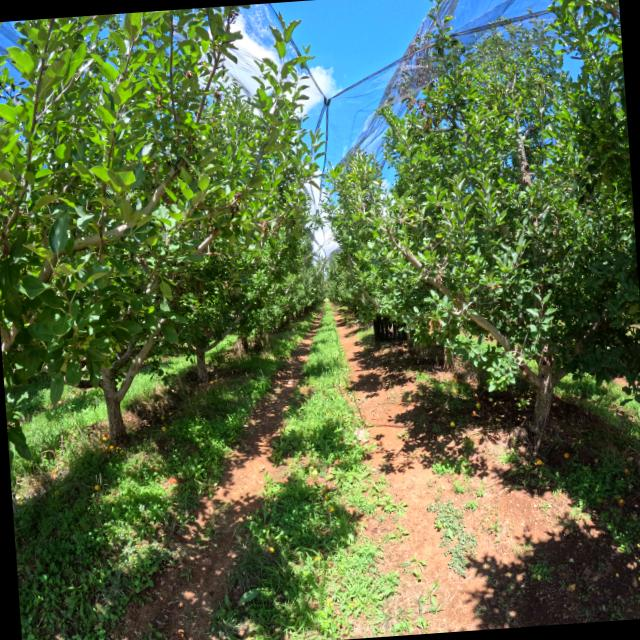-FireBlight-: (428, 318, 441, 335)
